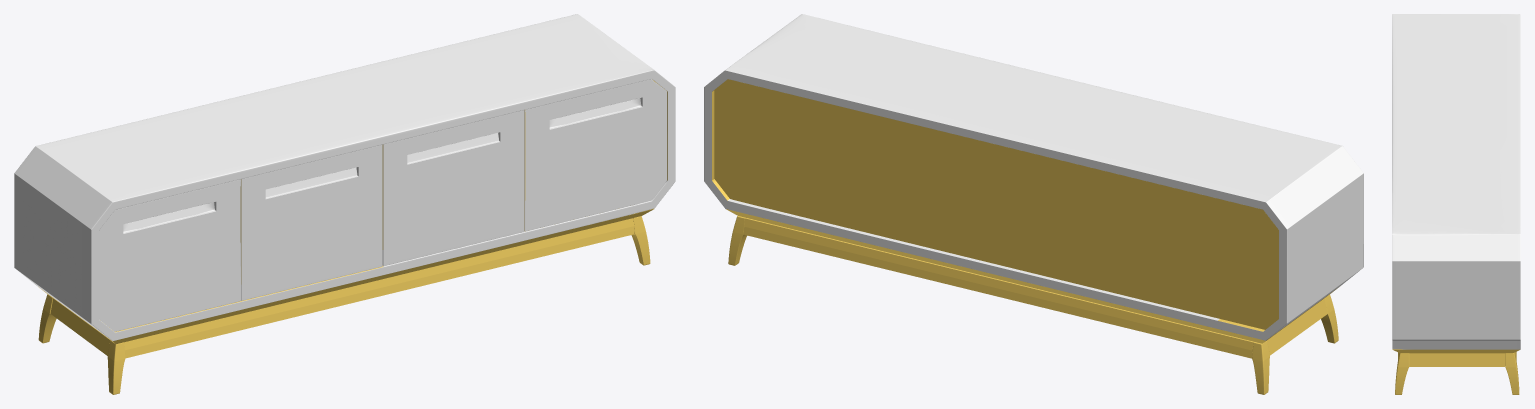
The model's file is Mirtillo-sideboard-Larforma.glb.
3 renders of one model, left to right at view 1: azimuth 30°, elevation 25°; view 2: azimuth 150°, elevation 25°; view 3: azimuth 270°, elevation 25°, orthographic. The views are drawn at different scales.
Visible parts, largest first — view 1: Frame, Inner Doors, Outside Doors, Cube, Topo Rodape, Feet, Cube.001; view 2: Costas, Frame, Cube, Topo Rodape, Feet, Cube.001; view 3: Frame, Cube.001, Feet, Topo Rodape.
Part boxes in pixels (x1,y1,x2,y2): Frame: [14, 14, 675, 341]; Inner Doors: [240, 110, 524, 300]; Outside Doors: [99, 79, 666, 331]; Cube: [124, 218, 634, 358]; Topo Rodape: [41, 208, 653, 344]; Feet: [38, 216, 650, 394]; Cube.001: [50, 298, 110, 355]; Costas: [714, 79, 1278, 329]; Frame: [704, 14, 1363, 340]; Cube: [743, 218, 1253, 358]; Topo Rodape: [726, 209, 1337, 343]; Feet: [728, 216, 1338, 394]; Cube.001: [1267, 298, 1327, 355]; Frame: [1392, 14, 1520, 349]; Cube.001: [1409, 353, 1504, 366]; Feet: [1395, 352, 1519, 394]; Topo Rodape: [1392, 349, 1519, 353].
Size of the model in its own units: 2.19 by 0.6982 by 0.5009.
